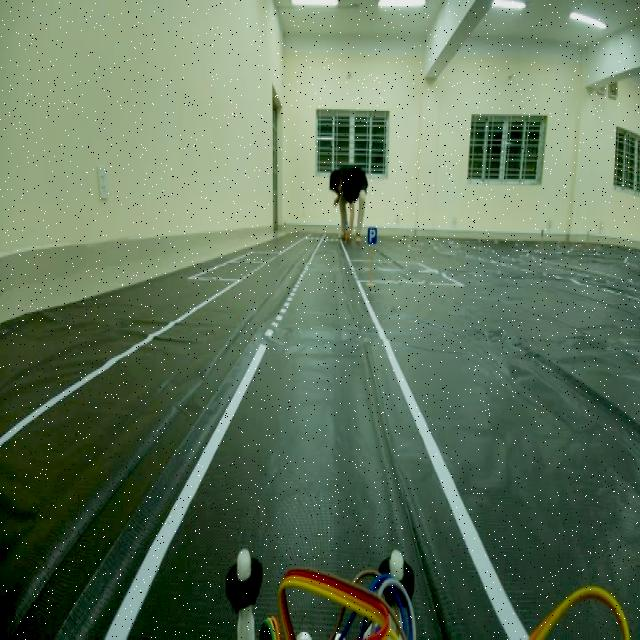parking: (367, 219, 381, 255)
